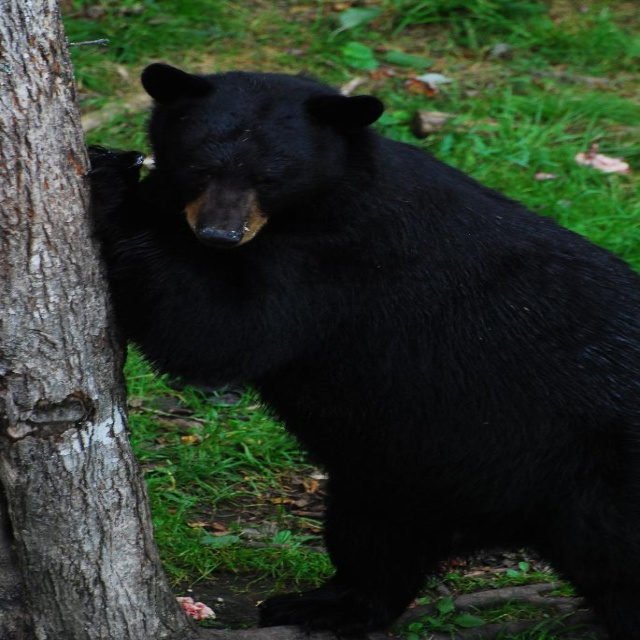Bear: (79, 62, 639, 640)
